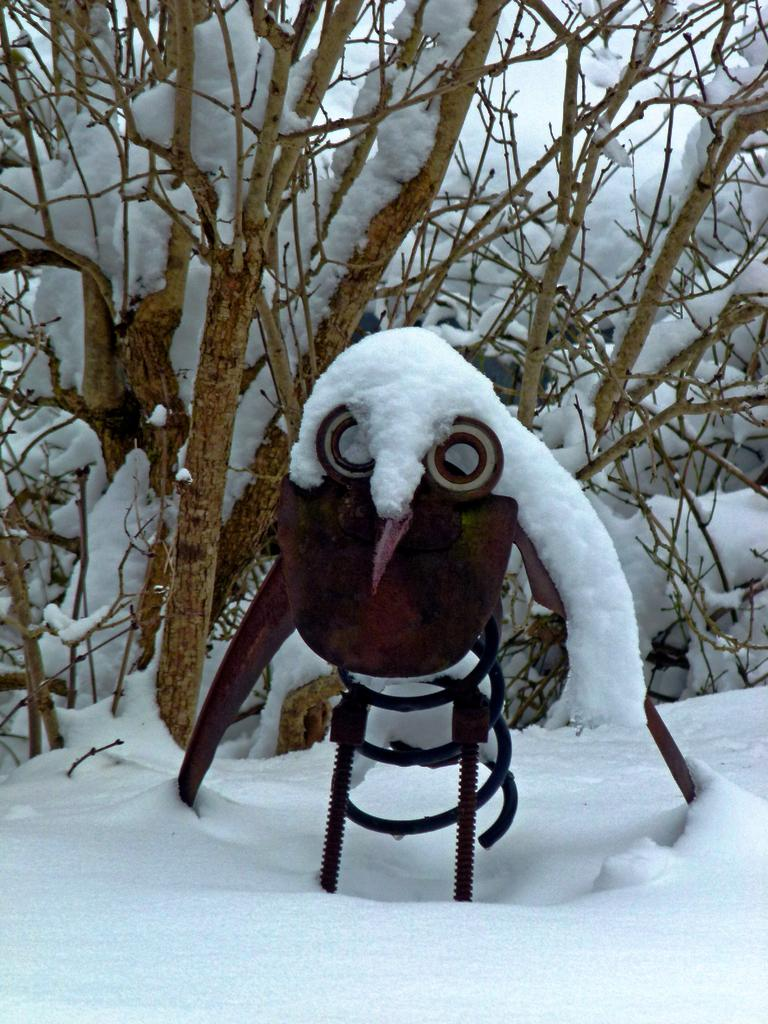Owl: (178, 326, 696, 808)
